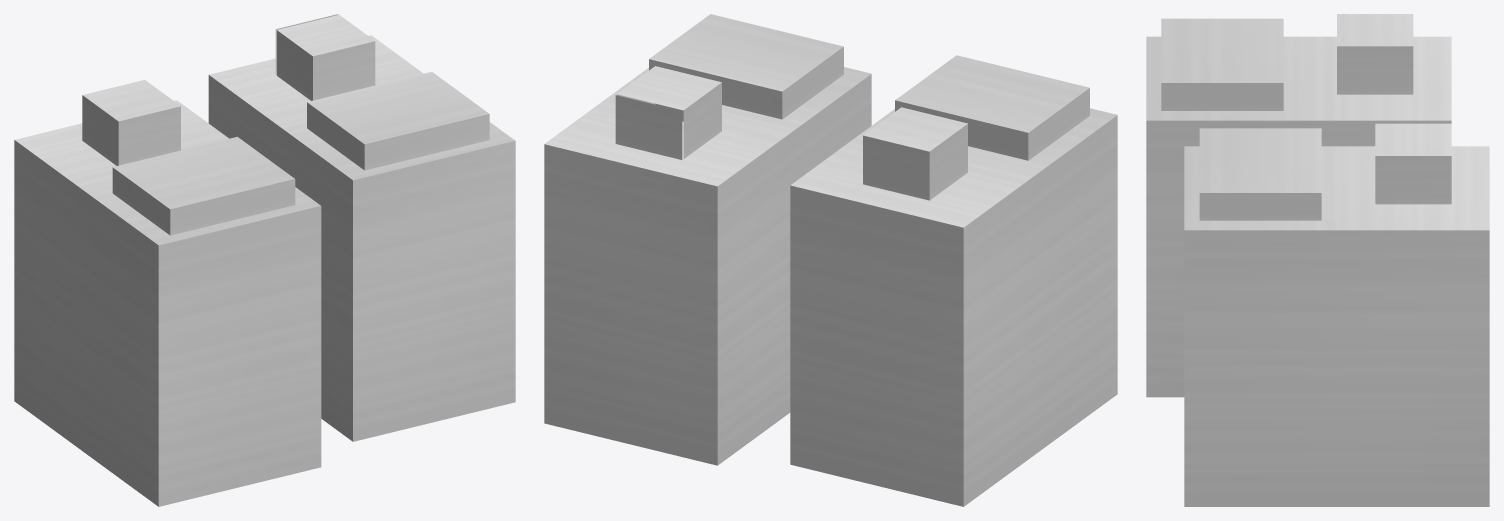
Rendered from item_neutroamine.obj.
The picture shows the model from 3 angles, left to right: view 1: azimuth 30°, elevation 25°; view 2: azimuth 150°, elevation 25°; view 3: azimuth 270°, elevation 25°; orthographic projection. The views are drawn at different scales.
Parts seen in each view (by area): view 1: item_neutroamine; view 2: item_neutroamine; view 3: item_neutroamine.
Part boxes in pixels (x1,y1,x2,y2): item_neutroamine: [14, 14, 515, 506]; item_neutroamine: [544, 14, 1117, 506]; item_neutroamine: [1146, 14, 1489, 506].
Bounding box in the file's own units: 0.6 × 0.47 × 0.45.
